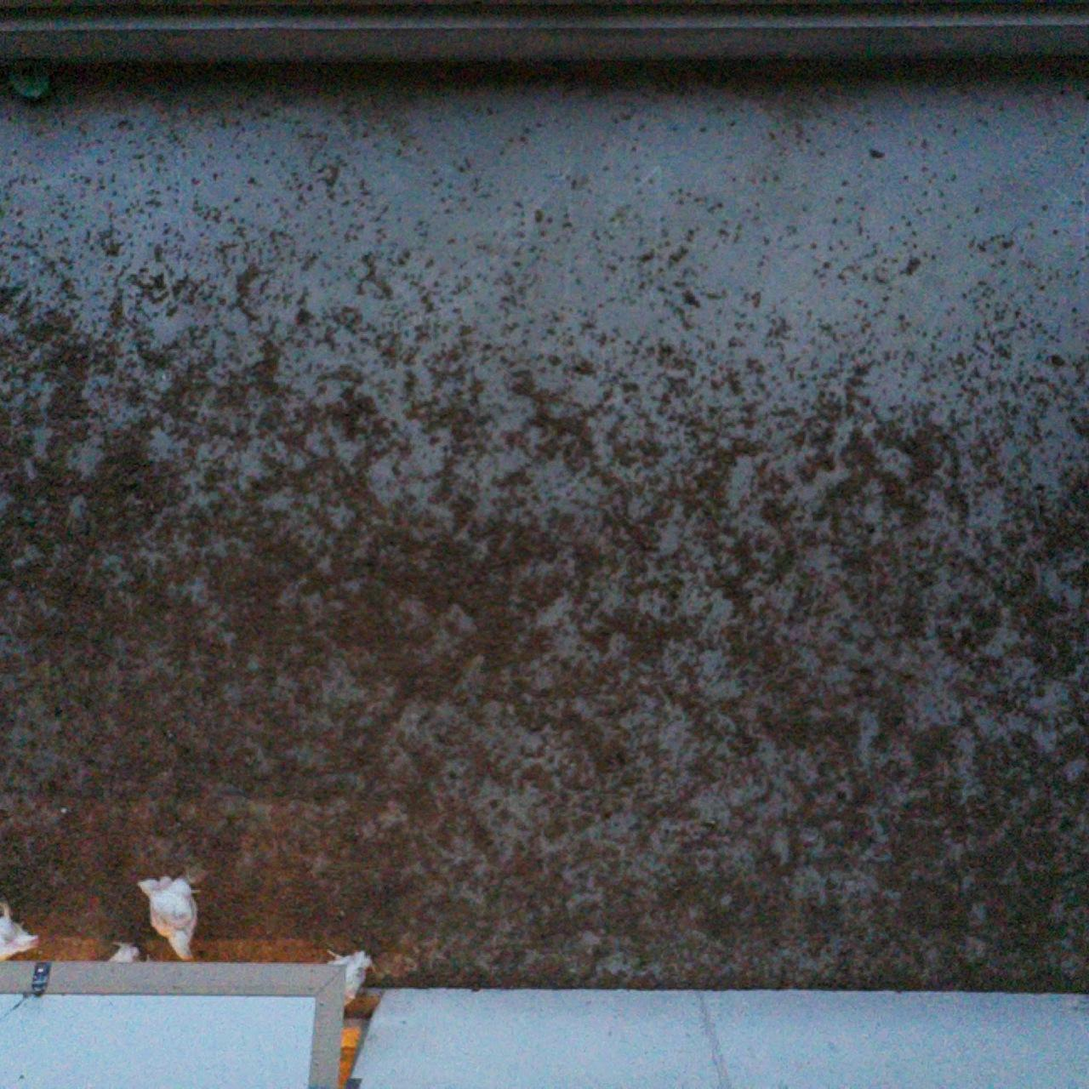chicken: (134, 871, 207, 966), (322, 944, 382, 1012), (0, 893, 44, 965), (107, 936, 156, 967)
